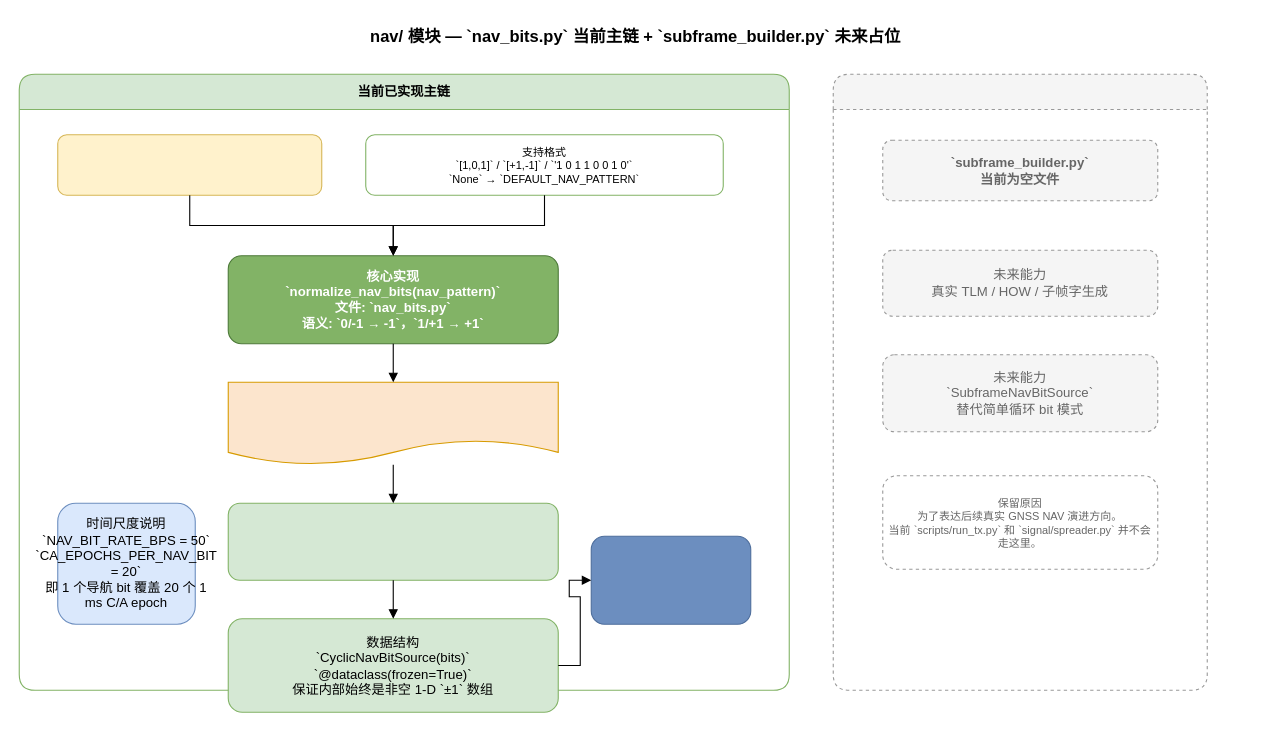
Some shapes in this 1271 by 732 pixel diagram are drawn without their labels. Here are the shapes that lost their labels. From the top down, the box of each, then its label:
(57, 134, 322, 195): 输入配置 `nav_pattern: Sequence | str | None`
(832, 73, 1207, 690): 未来占位（当前 TX 主链未接入）
(227, 381, 558, 465): 输出产物 `np.int8[M]` 值域 = `{-1, +1}` 空输入会抛 `ValueError`
(227, 502, 558, 580): 构造入口 `CyclicNavBitSource.from_pattern(...)` 内部会调用 `normalize_nav_bits()`
(590, 535, 751, 624): 运行时访问 `bit_at(index)` → `bits[index % len(bits)]` 输出: 当前导航 bit (`int`, `±1`)
